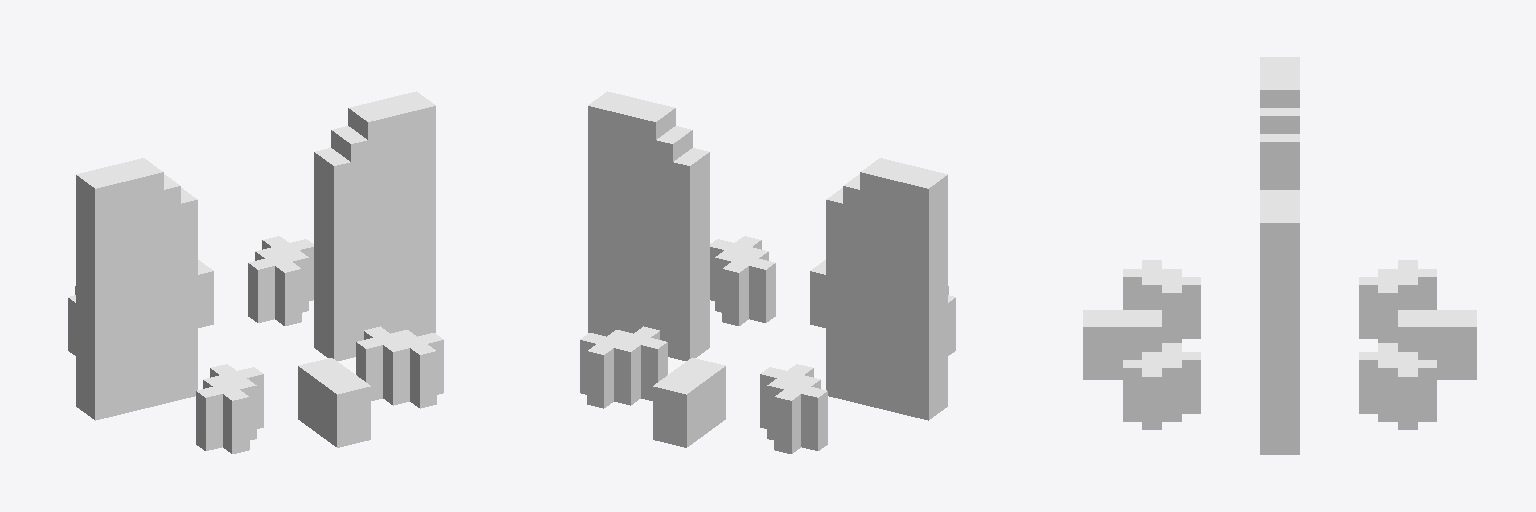
The model's file is NewArt2.obj.
The picture shows the model from 3 angles: view 1: azimuth 30°, elevation 25°; view 2: azimuth 150°, elevation 25°; view 3: azimuth 270°, elevation 25°; orthographic projection.
Visible parts, largest first — view 1: object 1; view 2: object 1; view 3: object 1.
Part boxes in pixels (left/top/right/bottom): object 1: left=68, top=91, right=443, bottom=453; object 1: left=580, top=91, right=955, bottom=453; object 1: left=1083, top=57, right=1476, bottom=454.
Size of the model in its own units: 2 by 1.3 by 2.